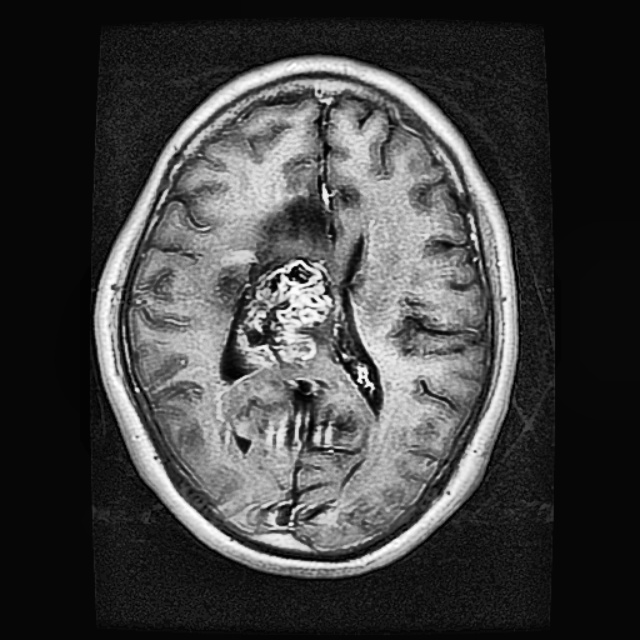Pituitary: (217, 198, 340, 372)
